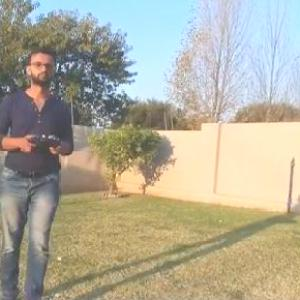follow: (0, 43, 78, 299)
